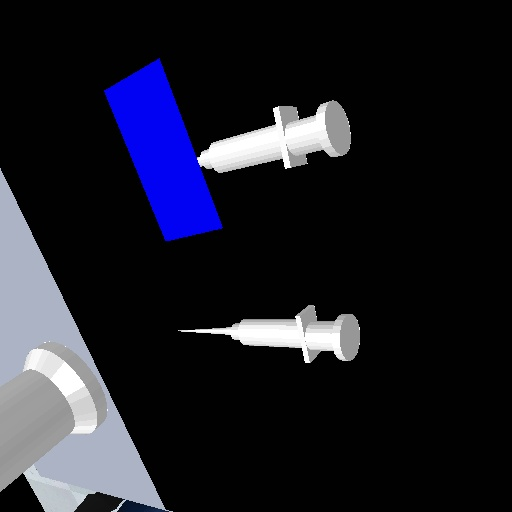jeringuilla: (193, 98, 356, 177), (173, 303, 368, 366)
